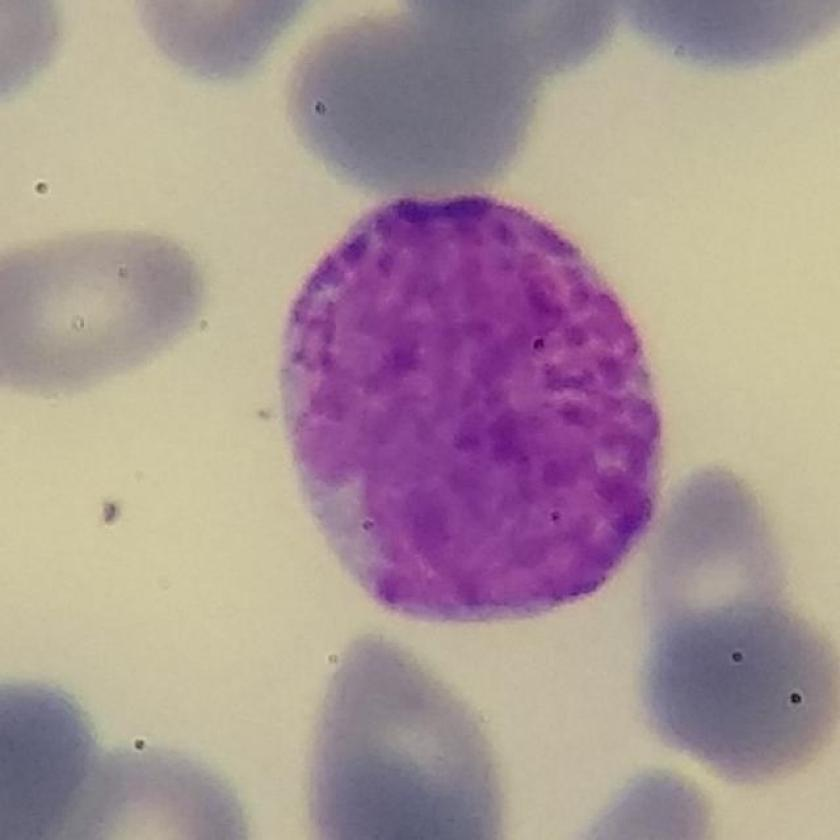basophil: (273, 185, 674, 628)
